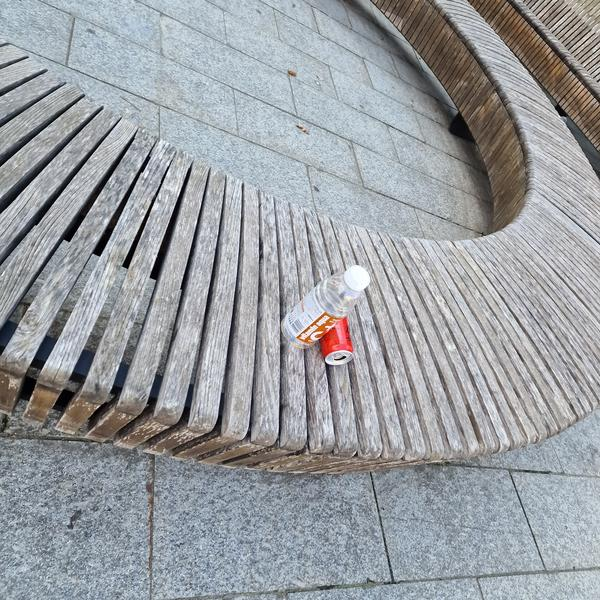can: (315, 312, 356, 368)
plastic_bottle: (273, 253, 379, 357)
